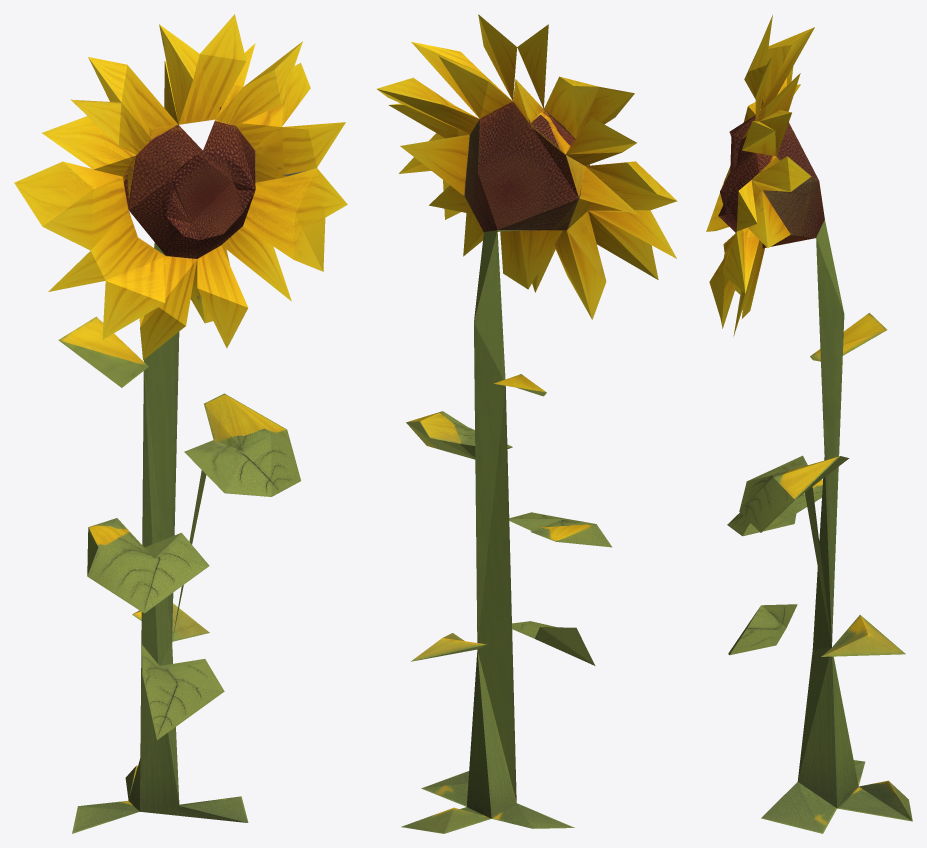
File: sunflower.glb
3 views of the same model, side by side, from view 1: azimuth 30°, elevation 25°; view 2: azimuth 150°, elevation 25°; view 3: azimuth 270°, elevation 25° (orthographic). The views are drawn at different scales.
Visible parts, largest first — view 1: geometry_0; view 2: geometry_0; view 3: geometry_0.
Boxes of the visible parts, left/top/right/bottom form: geometry_0: left=14, top=14, right=347, bottom=833; geometry_0: left=377, top=14, right=677, bottom=833; geometry_0: left=706, top=15, right=912, bottom=833.
Size of the model in its own units: 0.7893 by 2 by 0.4866.
Materials: 1 (1 with a texture image).
